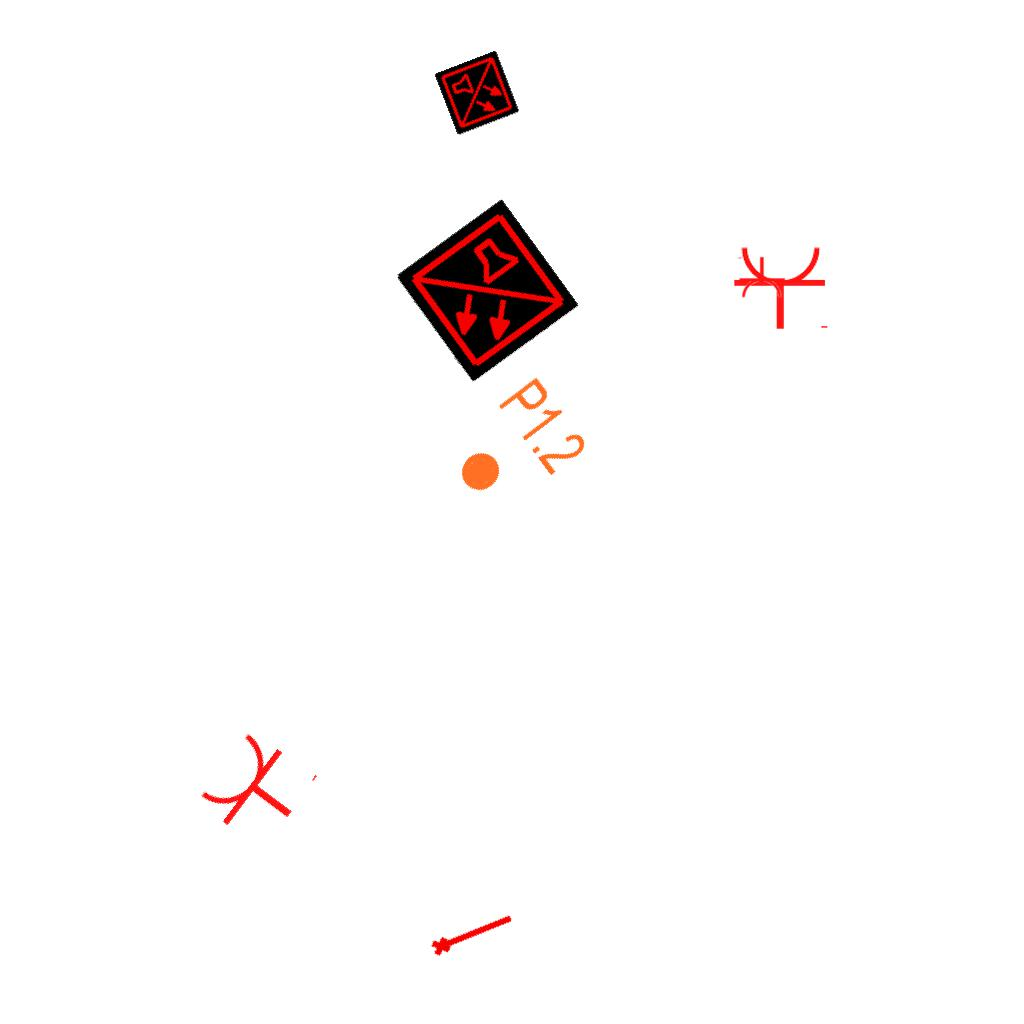ASR_Ansaugoeffnung: (426, 905, 518, 960)
Downlight_LED_Einbauleuchten_Flur: (435, 372, 594, 524)
OKW_Multisensormelder_(Kombination_optischer_Rauch-Kahlenmonoxid_Waerme-Melder): (394, 198, 580, 384), (434, 50, 520, 136)
Schukosteckdose_einfach: (192, 721, 323, 855), (732, 244, 832, 331), (736, 256, 786, 299)
